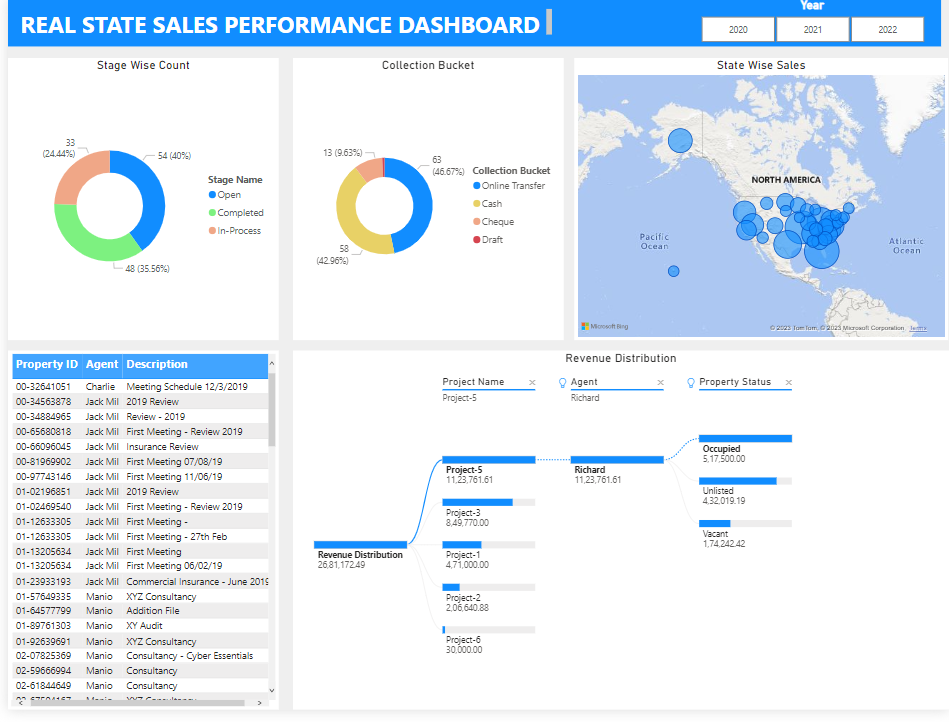

The page's visual inventory and layout, read from the dashboard file:
{"tool":"powerbi","page":{"name":"Detail Page","canvas":[1320,1000],"ordinal":1},"visuals":[{"type":"shape","box":[0,0,1309.2,68.3],"z":0},{"type":"textbox","box":[12.3,9.8,756,49.2],"z":1000},{"type":"slicer","title":"Year","fields":{"Values":["DimDate.Year"]},"box":[946.5,0,362.6,68.8],"z":2000},{"type":"map","title":"State Wise Sales","fields":{"Category":["Real Estate Data.State"],"Size":["Real Estate Data.Sales"]},"box":[795.3,83.6,524.9,395.8],"z":3000},{"type":"donutChart","title":"Stage Wise Count","fields":{"Category":["Real Estate Data.Stage Name"],"Y":["Real Estate Data.Stage Name"]},"box":[0,83.6,379.8,395.8],"z":4000},{"type":"donutChart","title":"Collection Bucket","fields":{"Category":["Real Estate Data.Collection Bucket"],"Y":["Real Estate Data.Account Name"]},"box":[399.5,83.6,379.8,395.8],"z":5000},{"type":"tableEx","fields":{"Values":["Real Estate Data.Property ID","Real Estate Data.Agent","Real Estate Data.Description"]},"box":[0,495.4,379.8,504],"z":6000},{"type":"decompositionTreeVisual","title":"Revenue Distribution","fields":{"Analyze":["Real Estate Data.Revenue"],"ExplainBy":["Real Estate Data.Project Name","Real Estate Data.Agent","Real Estate Data.Property Status"]},"box":[399.5,495.4,920.7,504],"z":7000}]}

Visuals, with their boxes in screenshot pixels (x1, y1, x2, y2), scaled from the page's 1320x1000 canvas onto the 949x722 screenshot:
shape: {"x1": 0, "y1": 0, "x2": 941, "y2": 49}
textbox: {"x1": 9, "y1": 7, "x2": 552, "y2": 43}
"Year" slicer: {"x1": 680, "y1": 0, "x2": 941, "y2": 50}
"State Wise Sales" map: {"x1": 572, "y1": 60, "x2": 948, "y2": 346}
"Stage Wise Count" donutChart: {"x1": 0, "y1": 60, "x2": 273, "y2": 346}
"Collection Bucket" donutChart: {"x1": 287, "y1": 60, "x2": 560, "y2": 346}
tableEx - Real Estate Data.Property ID x Real Estate Data.Agent: {"x1": 0, "y1": 358, "x2": 273, "y2": 721}
"Revenue Distribution" decompositionTreeVisual: {"x1": 287, "y1": 358, "x2": 948, "y2": 721}
